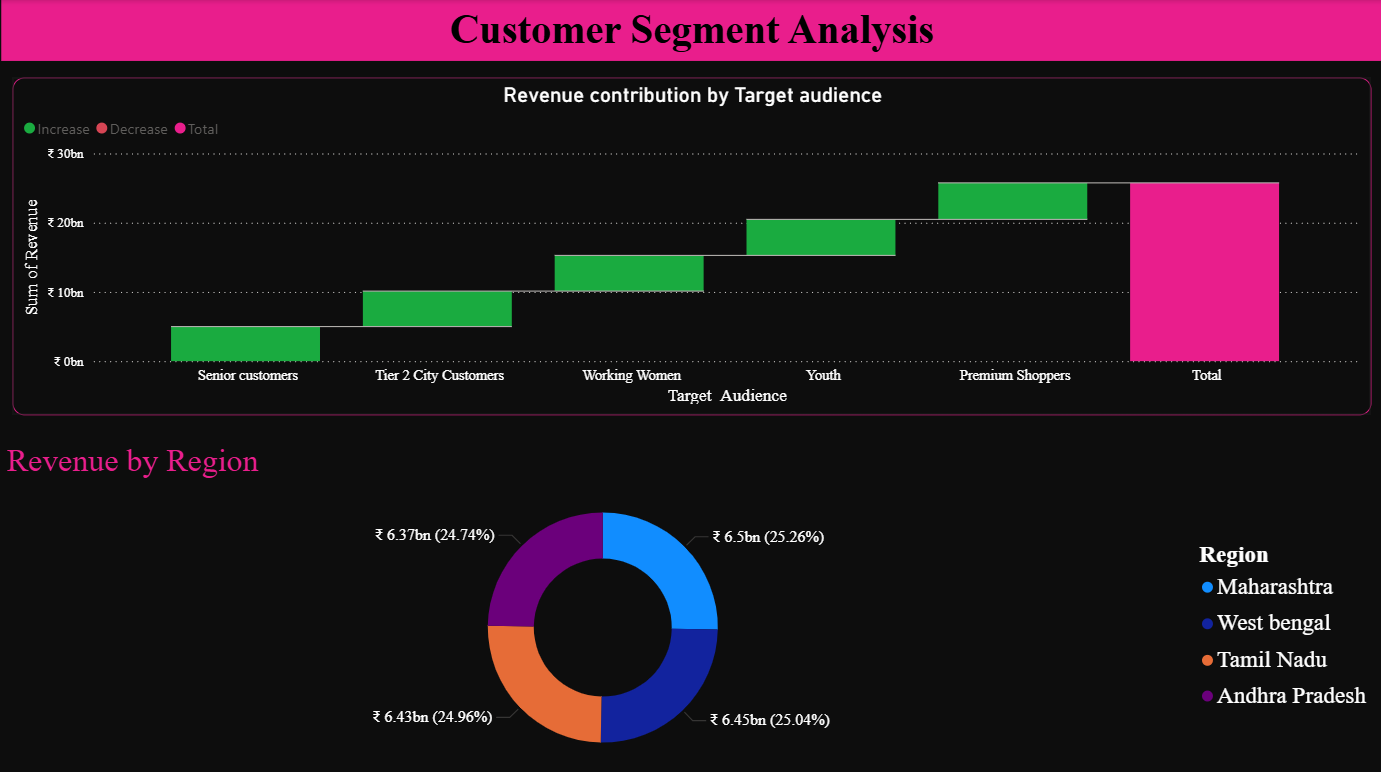

This screenshot's page, from the dashboard's own definition file:
{"tool":"powerbi","page":{"name":"Segment Analysis","canvas":[1280,720],"ordinal":2},"visuals":[{"type":"textbox","box":[5.3,0,1269.4,55.8],"z":0},{"type":"waterfallChart","title":"Revenue contribution by Target audience","fields":{"Category":["nykaa_campaign_data.Target_Audience"],"Y":["Sum(nykaa_campaign_data.Revenue)"]},"box":[16,71.4,1249,310.4],"z":1000},{"type":"donutChart","title":"Revenue by Region","fields":{"Category":["nykaa_campaign_data.Region"],"Y":["Sum(nykaa_campaign_data.Revenue)"]},"box":[6,406,1269,310],"z":2000}]}

Visuals, with their boxes in screenshot pixels (x1, y1, x2, y2), scaled from the page's 1280x720 canvas onto the 1381x772 screenshot:
textbox: bbox=(6, 0, 1375, 60)
"Revenue contribution by Target audience" waterfallChart: bbox=(17, 77, 1365, 409)
"Revenue by Region" donutChart: bbox=(6, 435, 1376, 768)
